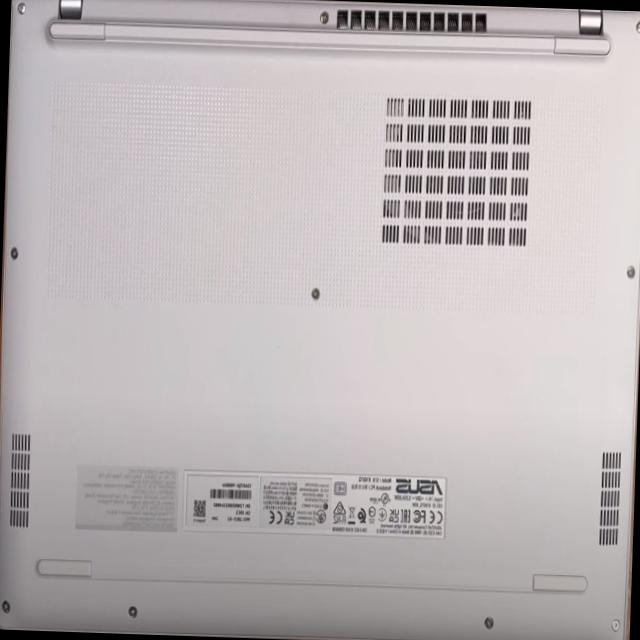outerscrew: (481, 606, 496, 640), (306, 280, 324, 306), (122, 604, 140, 625), (6, 242, 20, 264), (0, 593, 16, 611), (634, 16, 640, 40), (624, 263, 634, 277)
